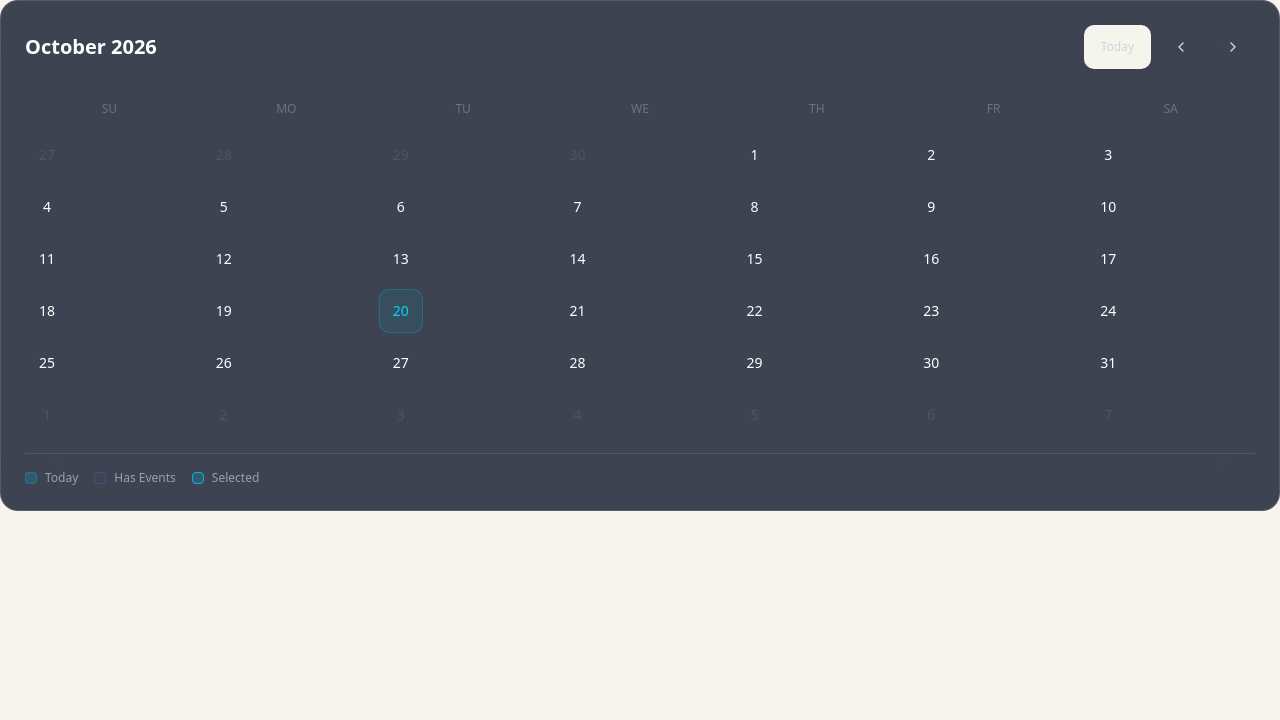
EventCalendar › navigates to previous month
This screenshot has width=1280, height=720.
Click the button named "Previous month" at (1181, 47), box [1159,25,1203,69]
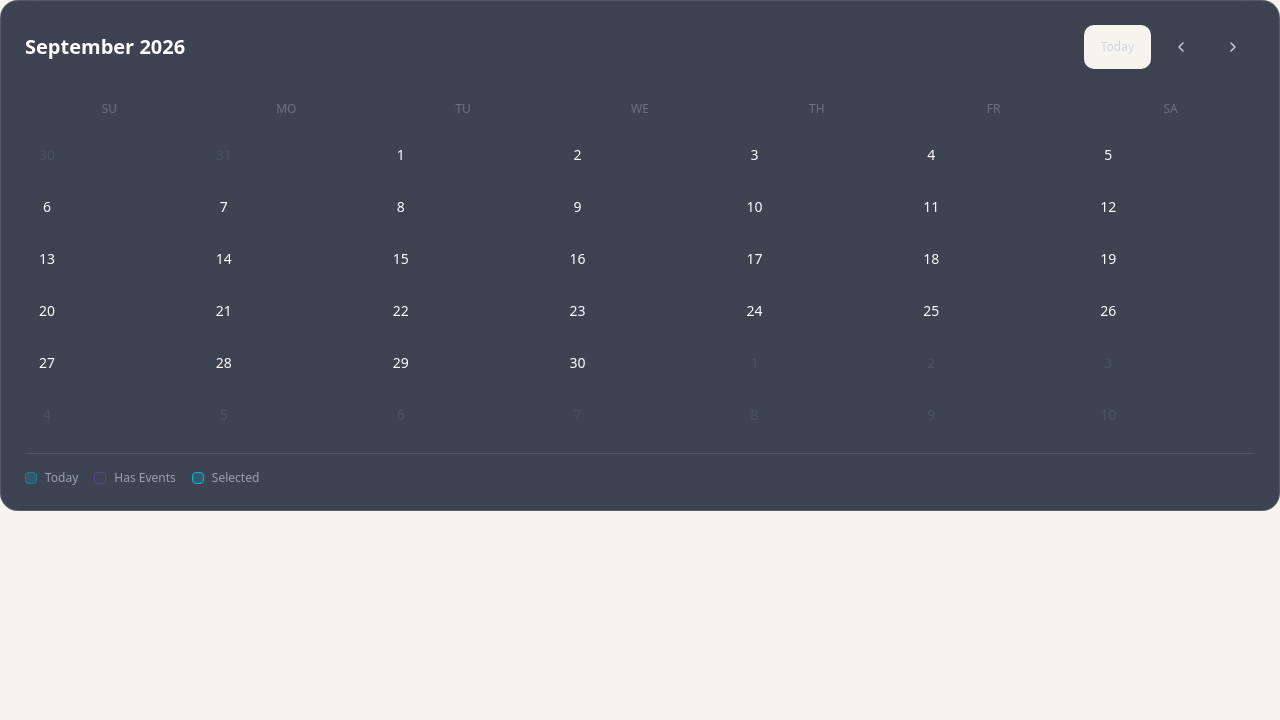
Now the heading "September 2026" is shown, box [25,33,185,61]
